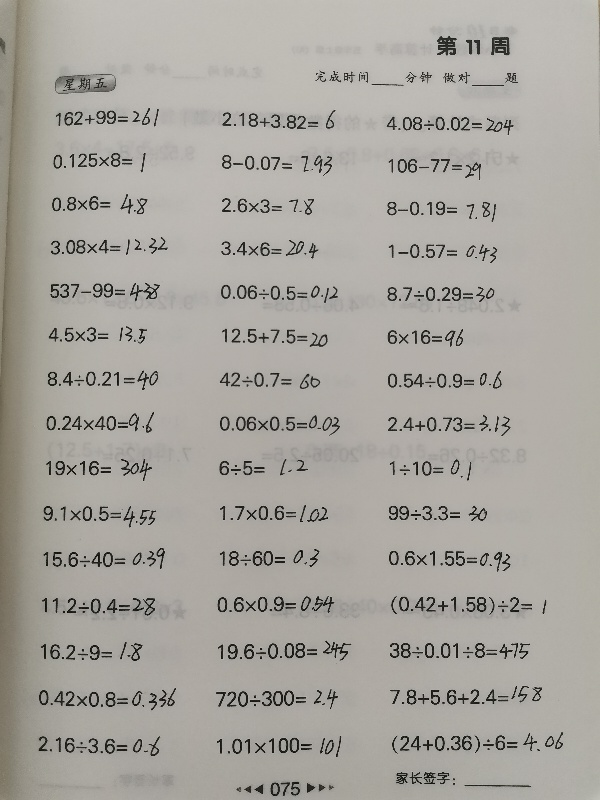equation: (387, 730, 566, 756), (386, 592, 550, 618), (34, 685, 179, 713), (385, 683, 545, 708), (213, 636, 354, 664), (214, 732, 346, 761), (40, 544, 169, 573), (384, 546, 514, 574), (213, 685, 342, 713), (386, 639, 534, 663), (384, 410, 514, 437), (34, 732, 163, 759), (215, 410, 343, 437), (43, 455, 156, 485), (39, 501, 159, 529), (383, 111, 517, 136), (217, 151, 335, 179), (382, 194, 499, 222), (218, 107, 338, 134), (43, 409, 158, 437), (216, 280, 341, 305), (39, 594, 159, 620), (214, 592, 338, 617), (47, 234, 171, 259), (44, 368, 163, 394), (384, 368, 506, 393), (385, 238, 501, 264), (46, 279, 163, 304), (47, 189, 150, 217), (387, 454, 482, 484), (37, 638, 146, 664), (212, 452, 313, 480), (218, 324, 331, 349), (217, 234, 321, 261), (217, 545, 324, 571), (52, 105, 163, 130), (217, 502, 332, 526), (384, 153, 485, 180), (50, 149, 150, 176), (384, 283, 499, 306), (216, 368, 324, 392), (44, 322, 150, 346), (385, 502, 491, 525), (218, 194, 317, 218), (384, 326, 468, 351)
